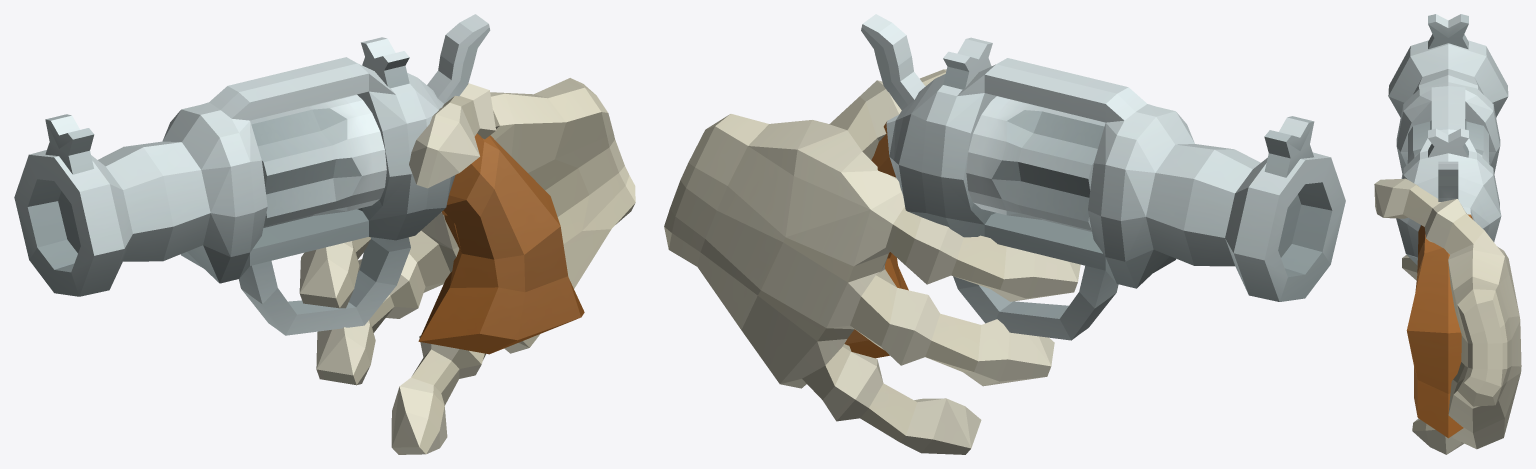
The model's file is SM_Revolver.fbx.
3 renders of one model, left to right at view 1: azimuth 30°, elevation 25°; view 2: azimuth 150°, elevation 25°; view 3: azimuth 270°, elevation 25°, orthographic. The views are drawn at different scales.
Visible parts, largest first — view 1: SM_Revolver; view 2: SM_Revolver; view 3: SM_Revolver.
Part boxes in pixels (x1,y1,x2,y2): SM_Revolver: (14, 14, 635, 454); SM_Revolver: (664, 14, 1345, 454); SM_Revolver: (1374, 14, 1521, 454).
Bounding box in the file's own units: 62.09 × 17.81 × 40.78.
